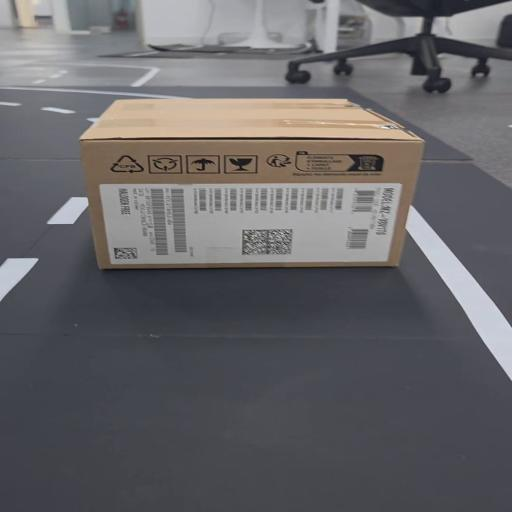Box: (79, 98, 437, 267)
